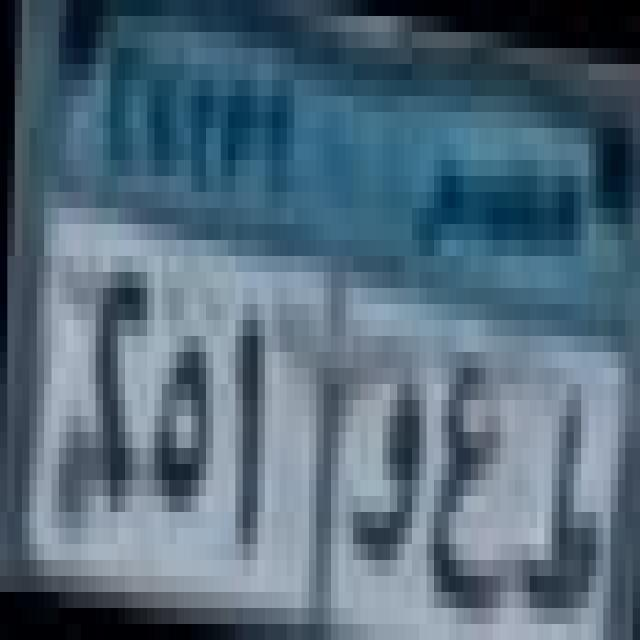1: (220, 280, 276, 567)
2: (90, 251, 158, 518)
5: (152, 328, 219, 526)
9: (426, 346, 514, 615)
Taa: (517, 358, 609, 628)
Wow: (340, 358, 428, 588)
